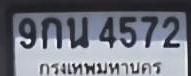2: (162, 15, 179, 47)
4: (98, 16, 115, 47)
5: (119, 16, 136, 46)
7: (140, 15, 157, 47)
9: (18, 17, 36, 48)
A01: (40, 16, 62, 48)
A25: (66, 16, 88, 48)
BKK: (35, 60, 165, 76)
